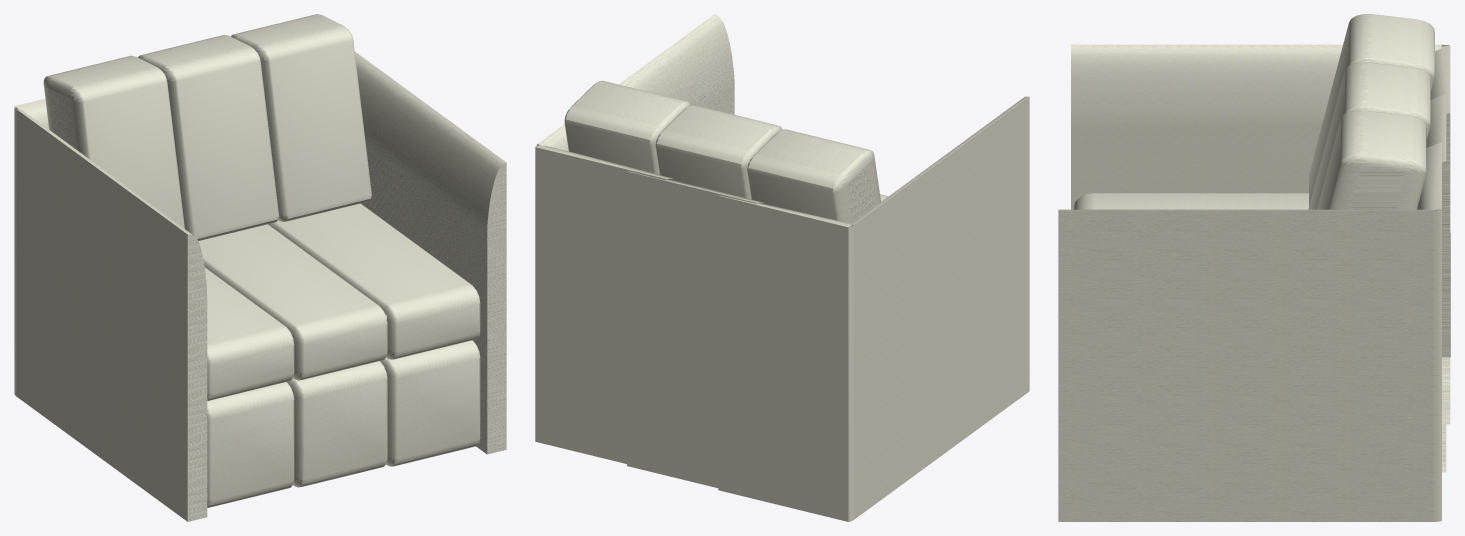
The model's file is sh-contrib-sofa1.glb.
3 renders of one model, left to right at view 1: azimuth 30°, elevation 25°; view 2: azimuth 150°, elevation 25°; view 3: azimuth 270°, elevation 25°, orthographic. The views are drawn at different scales.
Visible parts, largest first — view 1: Sofa1b3_1_1; view 2: Sofa1b3_1_1; view 3: Sofa1b3_1_1.
Boxes of the visible parts, left/top/right/bottom form: Sofa1b3_1_1: left=14, top=14, right=506, bottom=521; Sofa1b3_1_1: left=535, top=14, right=1029, bottom=521; Sofa1b3_1_1: left=1058, top=14, right=1450, bottom=521.
Size of the model in its own units: 1 by 1 by 1.
Materials: 1 (1 with a texture image).
